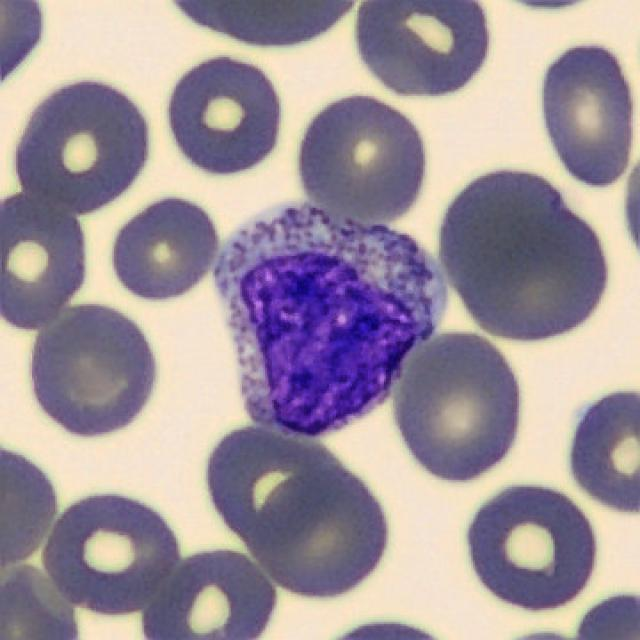Linfocito: (215, 203, 444, 436)
